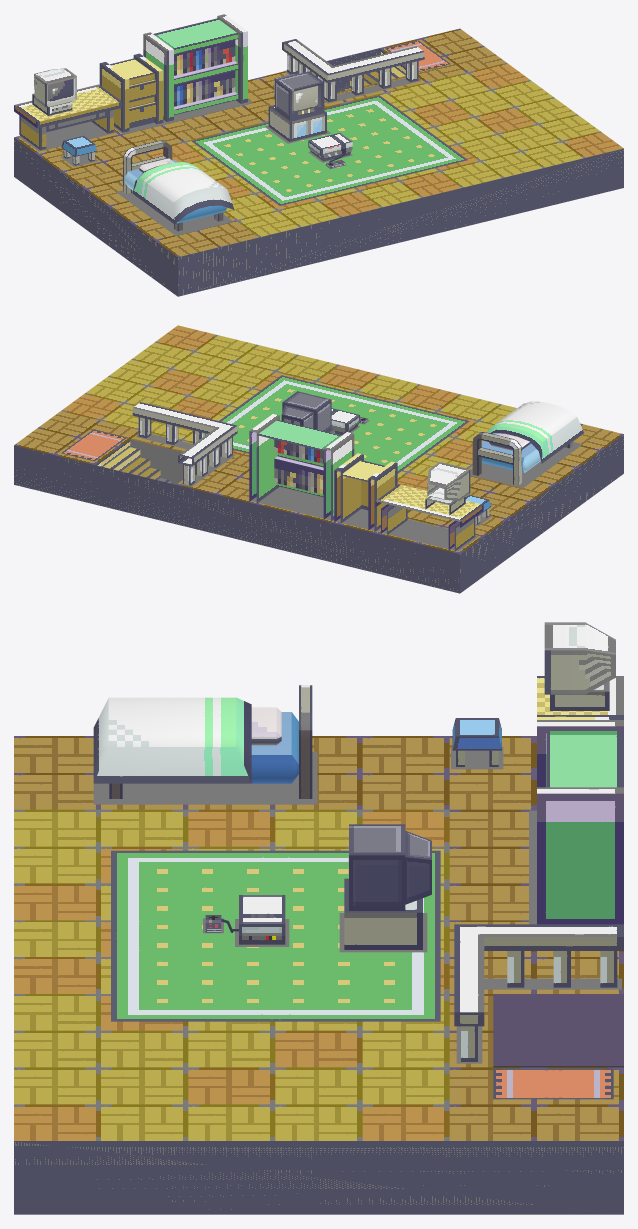
File: pokemon.glb
3 views of the same model, one above another, from view 1: azimuth 30°, elevation 25°; view 2: azimuth 150°, elevation 25°; view 3: azimuth 270°, elevation 25° (orthographic). The views are drawn at different scales.
Parts seen in each view (by area): view 1: pokemon; view 2: pokemon; view 3: pokemon.
Boxes of the visible parts, box(x1,y1,x2,y2) form: pokemon: box(14, 14, 623, 296); pokemon: box(14, 325, 623, 593); pokemon: box(14, 622, 623, 1214).
Bounding box in the file's own units: 17.16 × 4.09 × 10.92.
Materials: 1 (1 with a texture image).
